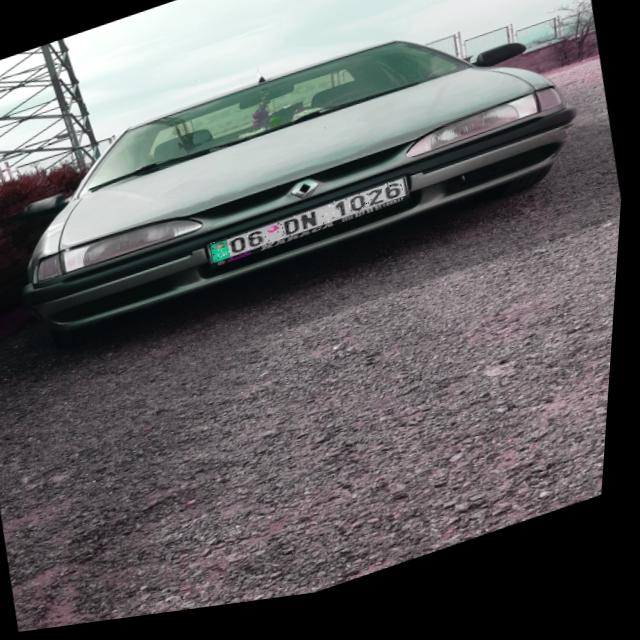plate: (209, 188, 413, 271)
